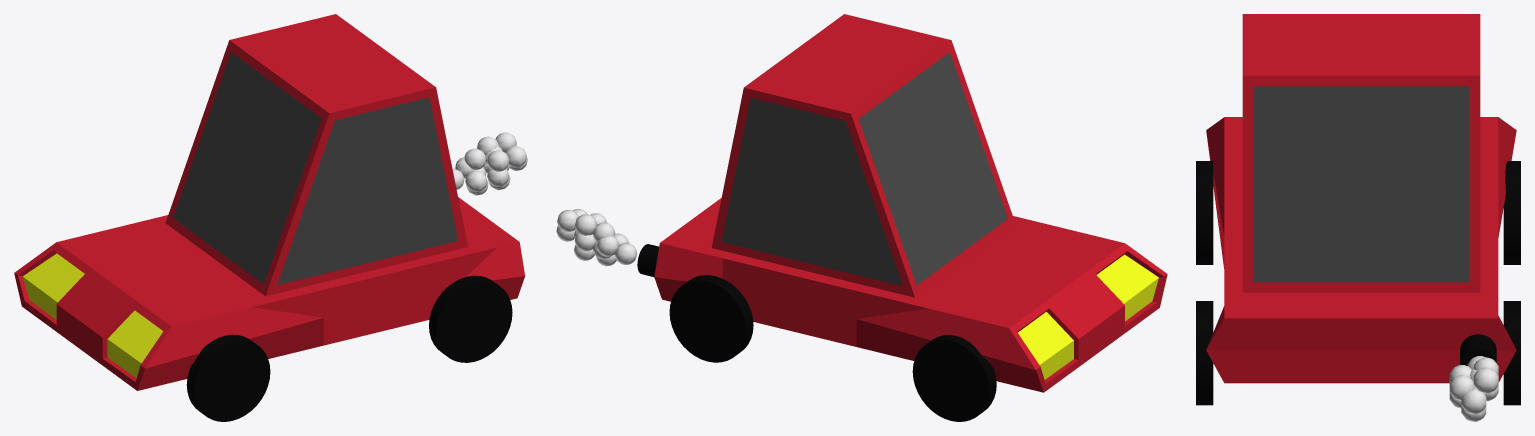
File: truck.dae
The picture shows the model from 3 angles, left to right: view 1: azimuth 30°, elevation 25°; view 2: azimuth 150°, elevation 25°; view 3: azimuth 270°, elevation 25°; orthographic projection. The views are drawn at different scales.
Parts seen in each view (by area): view 1: Cube, Cylinder.1, Cylinder; view 2: Cube, Cylinder.2, Cylinder.3, Tube; view 3: Cube, Cylinder, Cylinder.3, Cylinder.1, Cylinder.2, Tube, Platonic.13, Platonic.12, Platonic.14.
Part boxes in pixels (x1=…): Cube: x1=14, y1=14, x2=524, y2=390; Cylinder.1: x1=429, y1=275, x2=512, y2=362; Cylinder: x1=186, y1=334, x2=270, y2=421; Cube: x1=654, y1=14, x2=1167, y2=392; Cylinder.2: x1=669, y1=275, x2=753, y2=362; Cylinder.3: x1=912, y1=335, x2=996, y2=421; Tube: x1=637, y1=244, x2=658, y2=276; Cube: x1=1206, y1=14, x2=1516, y2=383; Cylinder: x1=1196, y1=161, x2=1213, y2=264; Cylinder.3: x1=1503, y1=161, x2=1520, y2=264; Cylinder.1: x1=1196, y1=301, x2=1213, y2=405; Cylinder.2: x1=1503, y1=301, x2=1520, y2=405; Tube: x1=1460, y1=334, x2=1496, y2=365; Platonic.13: x1=1473, y1=367, x2=1498, y2=393; Platonic.12: x1=1461, y1=388, x2=1486, y2=414; Platonic.14: x1=1449, y1=375, x2=1474, y2=400.
Bounding box in the file's own units: 371 × 190 × 178.
